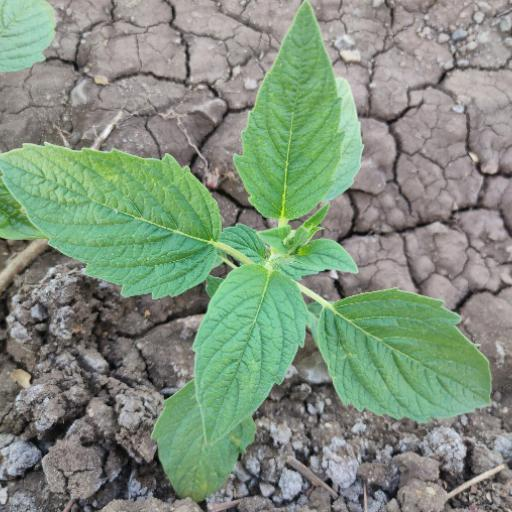crop: (6, 1, 496, 503)
